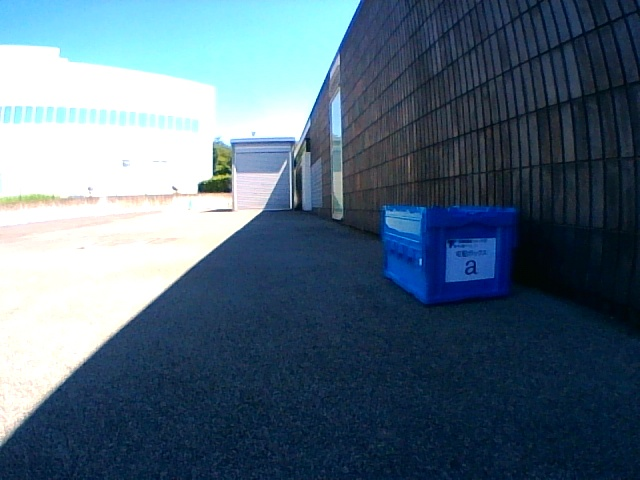blue_box: (383, 206, 515, 303)
tag_a: (449, 241, 490, 276)
